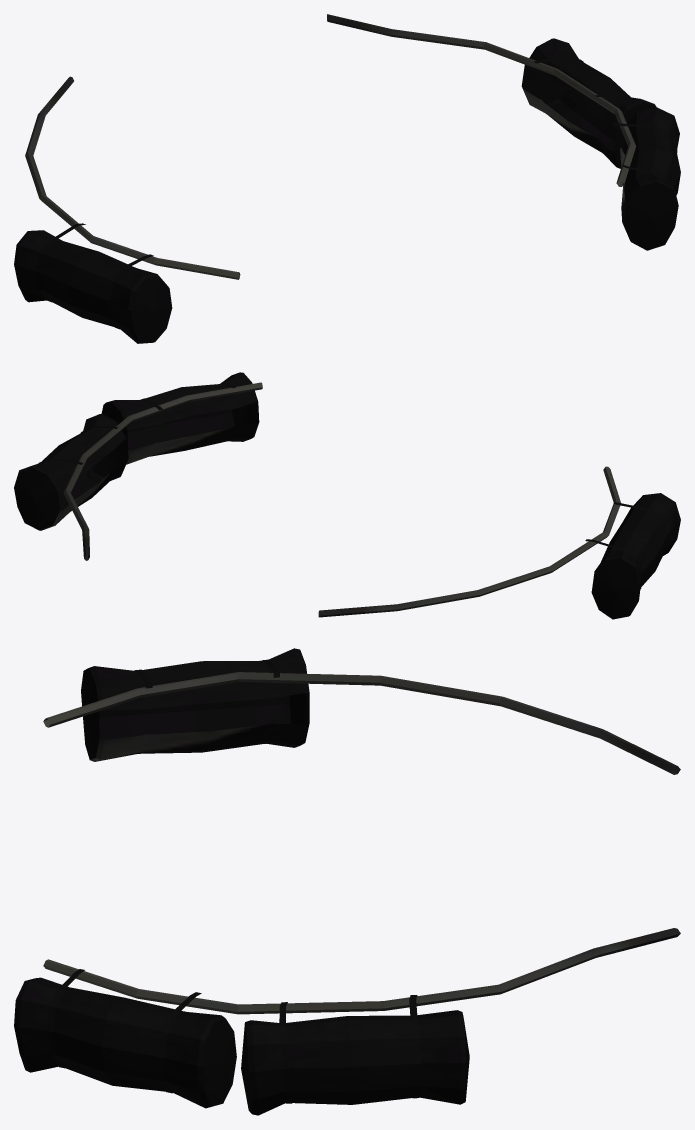
The model's file is sherman_turret_m4.obj.
3 renders of one model, top to bottom at view 1: azimuth 30°, elevation 25°; view 2: azimuth 150°, elevation 25°; view 3: azimuth 270°, elevation 25°, orthographic. The views are drawn at different scales.
Visible parts, largest first — view 1: sherman_turret_m4; view 2: sherman_turret_m4; view 3: sherman_turret_m4.
Part boxes in pixels (box(x1,y1,x2,y2)): sherman_turret_m4: box(14, 14, 680, 343); sherman_turret_m4: box(14, 372, 680, 619); sherman_turret_m4: box(14, 648, 680, 1115).
Bounding box in the file's own units: 2.42 × 0.2809 × 1.71.
Materials: 1 (1 with a texture image).
